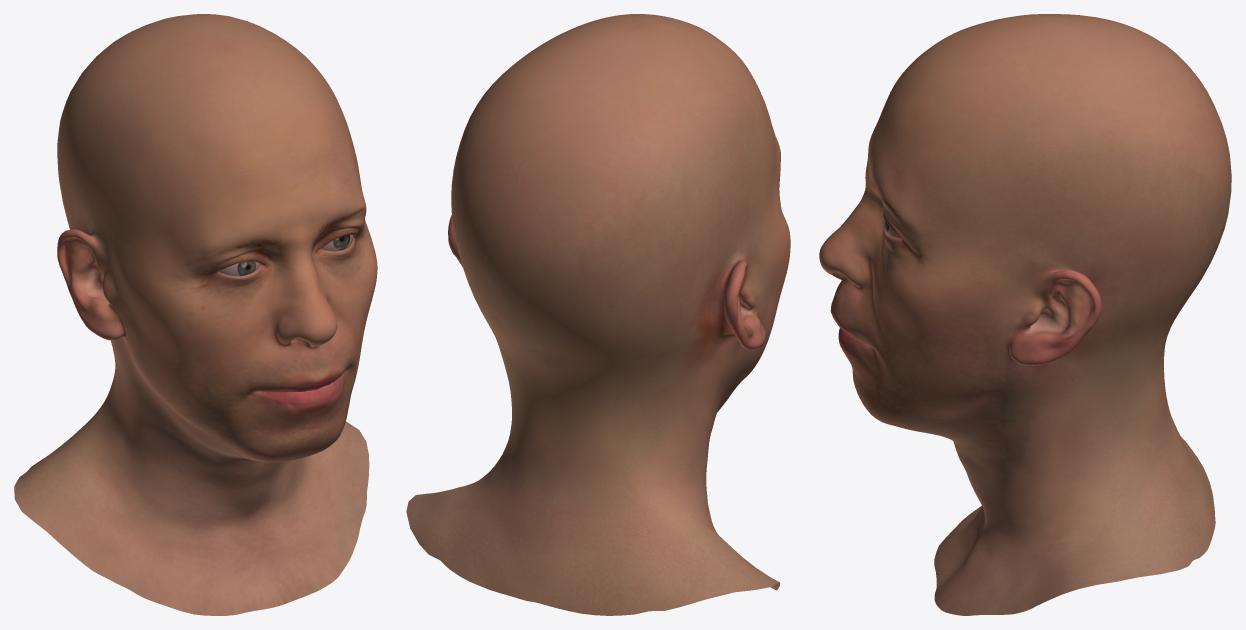
File: full.gltf
The picture shows the model from 3 angles, left to right: view 1: azimuth 30°, elevation 25°; view 2: azimuth 150°, elevation 25°; view 3: azimuth 270°, elevation 25°; orthographic projection. The views are drawn at different scales.
Visible parts, largest first — view 1: Face; view 2: Face; view 3: Face.
Boxes of the visible parts, left/top/right/bottom form: Face: left=14, top=14, right=377, bottom=615; Face: left=406, top=14, right=790, bottom=615; Face: left=819, top=14, right=1231, bottom=615.
Size of the model in its own units: 1.23 by 1.88 by 1.26.
Materials: 3 (3 with a texture image).
